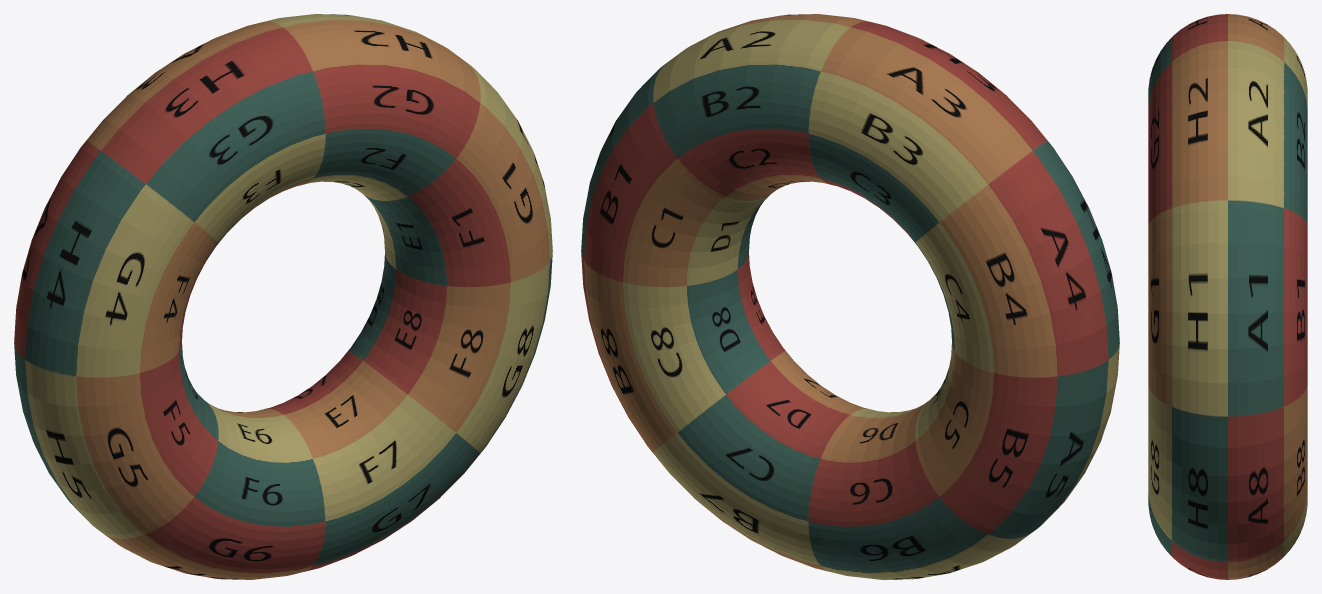
The model's file is texture_torus_R10_r17.glb.
3 renders of one model, left to right at view 1: azimuth 30°, elevation 25°; view 2: azimuth 150°, elevation 25°; view 3: azimuth 270°, elevation 25°, orthographic. The views are drawn at different scales.
Visible parts, largest first — view 1: world; view 2: world; view 3: world.
Boxes of the visible parts, x1,y1,x2,y2 form: world: (14, 14, 552, 579); world: (581, 14, 1119, 579); world: (1148, 14, 1307, 579).
Size of the model in its own units: 23.2 by 23.15 by 6.52.
1 material, 1 textured.
